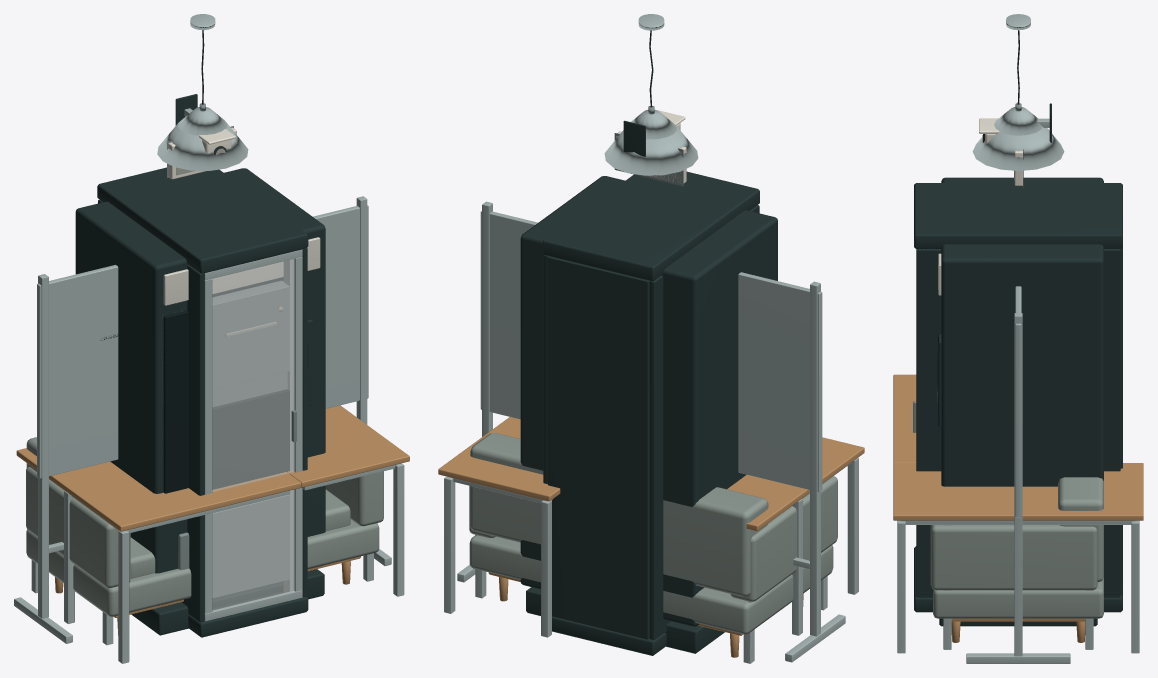
Rendered from props-kit.glb.
The picture shows the model from 3 angles, left to right: view 1: azimuth 30°, elevation 25°; view 2: azimuth 150°, elevation 25°; view 3: azimuth 270°, elevation 25°; orthographic projection. The views are drawn at different scales.
Visible parts, largest first — view 1: ServerRackA_KitAtlas, Whiteboard_KitAtlas, VendingMachine_KitAtlas, ServerRackB_KitGlass, DeskL_KitAtlas, Sofa_KitAtlas, ServerRackB_KitAtlas, VendingMachine_KitEmissive, CeilingLamp_KitAtlas, Desk_KitAtlas, SecurityCamera_KitAtlas; view 2: ServerRackA_KitAtlas, VendingMachine_KitAtlas, Whiteboard_KitAtlas, Sofa_KitAtlas, DeskL_KitAtlas, ServerRackB_KitAtlas, CeilingLamp_KitAtlas, Desk_KitAtlas, SecurityCamera_KitAtlas; view 3: VendingMachine_KitAtlas, ServerRackA_KitAtlas, Sofa_KitAtlas, DeskL_KitAtlas, ServerRackB_KitAtlas, Desk_KitAtlas, Whiteboard_KitAtlas, CeilingLamp_KitAtlas, SecurityCamera_KitAtlas.
Boxes of the visible parts, x1,y1,x2,y2 form: ServerRackA_KitAtlas: (97,167,308,637); Whiteboard_KitAtlas: (14,196,391,643); VendingMachine_KitAtlas: (75,168,325,635); ServerRackB_KitGlass: (212,259,294,611); DeskL_KitAtlas: (58,406,409,663); Sofa_KitAtlas: (26,437,383,635); ServerRackB_KitAtlas: (97,173,305,624); VendingMachine_KitEmissive: (163,237,320,493); CeilingLamp_KitAtlas: (157,14,248,170); Desk_KitAtlas: (16,405,373,645); SecurityCamera_KitAtlas: (175,94,235,154); ServerRackA_KitAtlas: (543,171,759,655); VendingMachine_KitAtlas: (520,176,777,653); Whiteboard_KitAtlas: (457,201,845,662); Sofa_KitAtlas: (469,433,837,657); DeskL_KitAtlas: (438,418,864,637); ServerRackB_KitAtlas: (554,172,759,639); CeilingLamp_KitAtlas: (604,14,698,175); Desk_KitAtlas: (461,417,842,663); SecurityCamera_KitAtlas: (623,110,685,156); VendingMachine_KitAtlas: (937,177,1103,626); ServerRackA_KitAtlas: (914,183,1122,612); Sofa_KitAtlas: (930,477,1103,642); DeskL_KitAtlas: (893,374,1143,653); ServerRackB_KitAtlas: (913,183,1121,612); Desk_KitAtlas: (936,471,1100,649); Whiteboard_KitAtlas: (966,286,1070,663); CeilingLamp_KitAtlas: (972,14,1064,170); SecurityCamera_KitAtlas: (979,103,1051,143).
Size of the model in its own units: 9.1 by 15 by 6.
3 materials, 2 textured.
